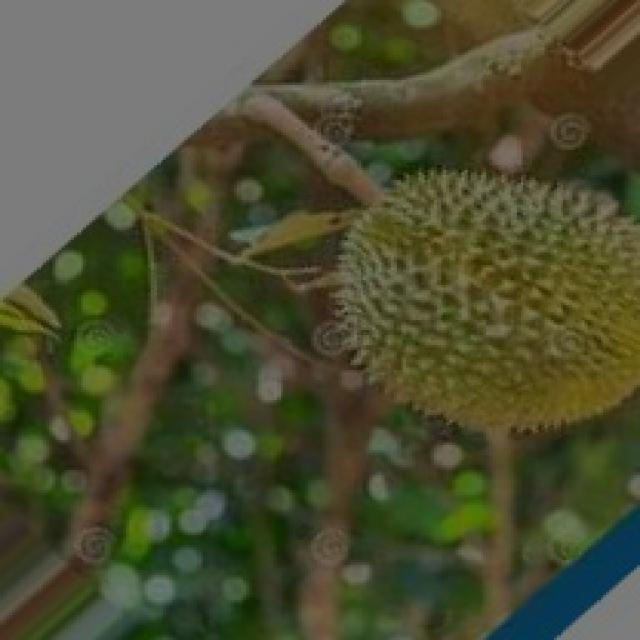fruit: (283, 120, 634, 490)
